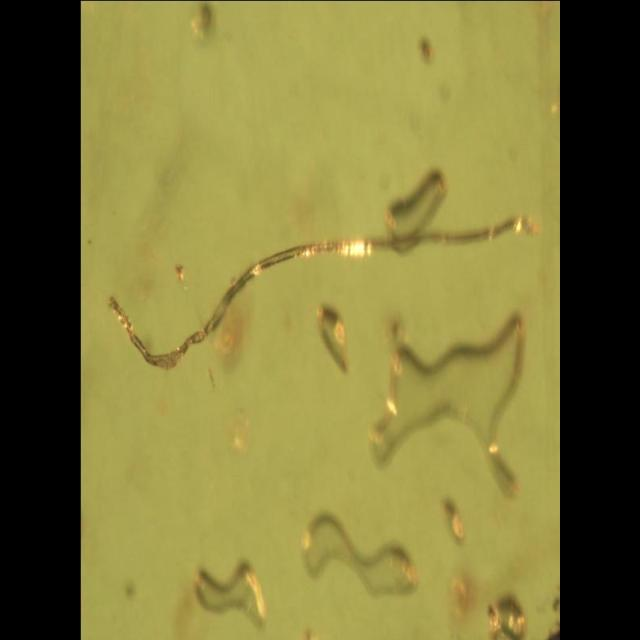Fibre: (107, 168, 538, 374)
